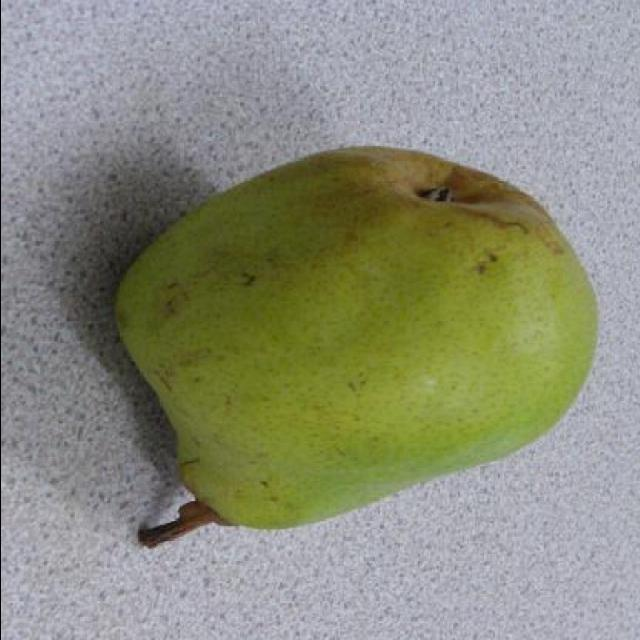Pear: (102, 145, 600, 548)
